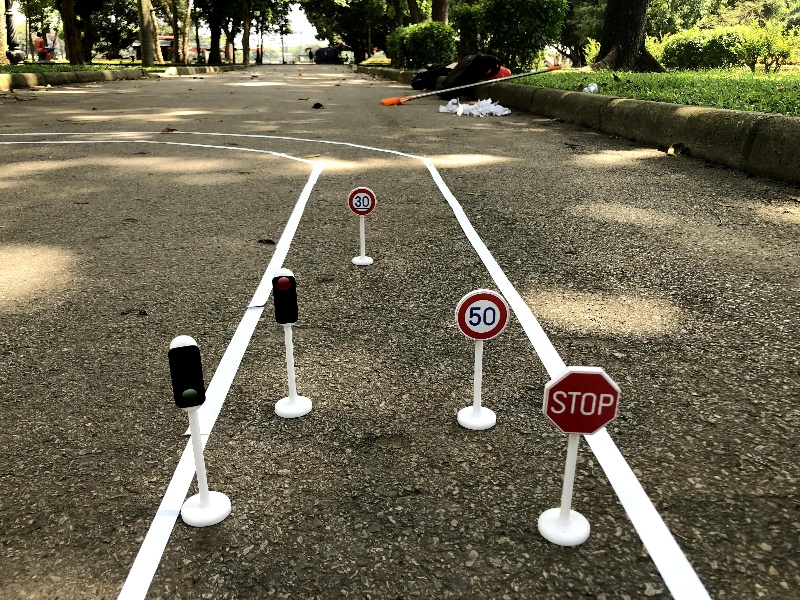Bien_bao_30: (341, 184, 383, 270)
Bien_bao_50: (443, 277, 515, 440)
Den_Do: (258, 265, 324, 424)
Den_Xanh: (142, 328, 238, 531)
Stop: (532, 364, 627, 554)
